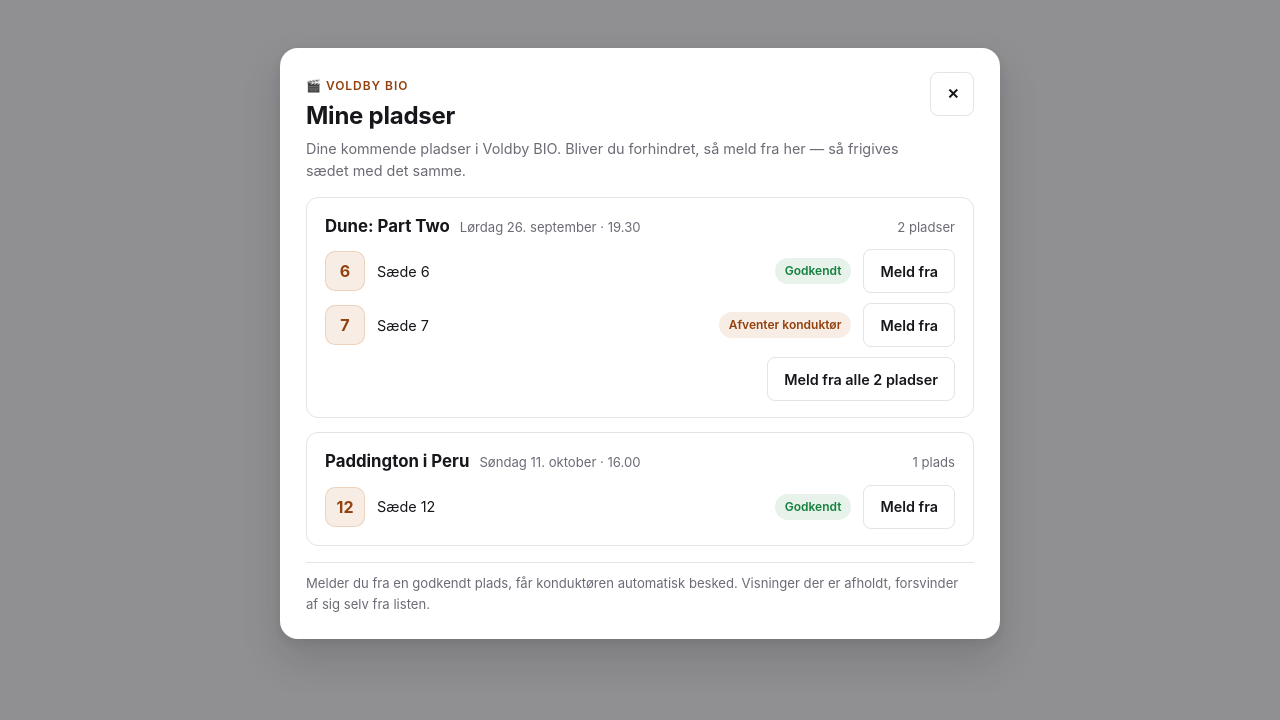
Test case: MyReservationsModal (feature #227) › viser backendens egen fejltekst når afmelding fejler
The image size is (1280, 720).
Click the button "Meld fra" in the row of "Sæde 12" at [909, 507], box [863,485,955,529]
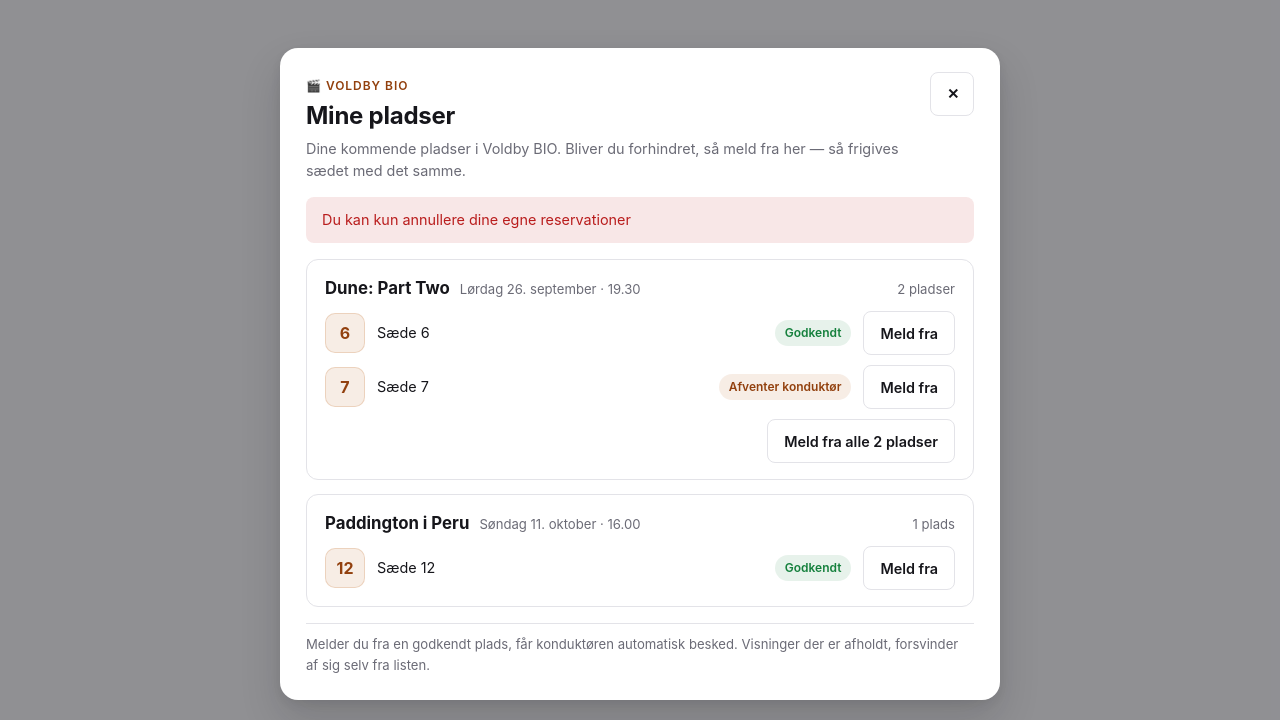
Now the text "Du kan kun annullere dine egne reservationer" is shown, box [306,197,974,243]
